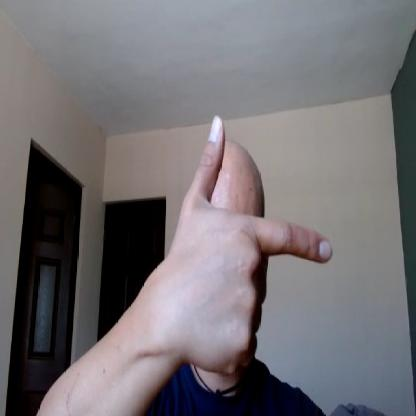G: (174, 113, 334, 376)
